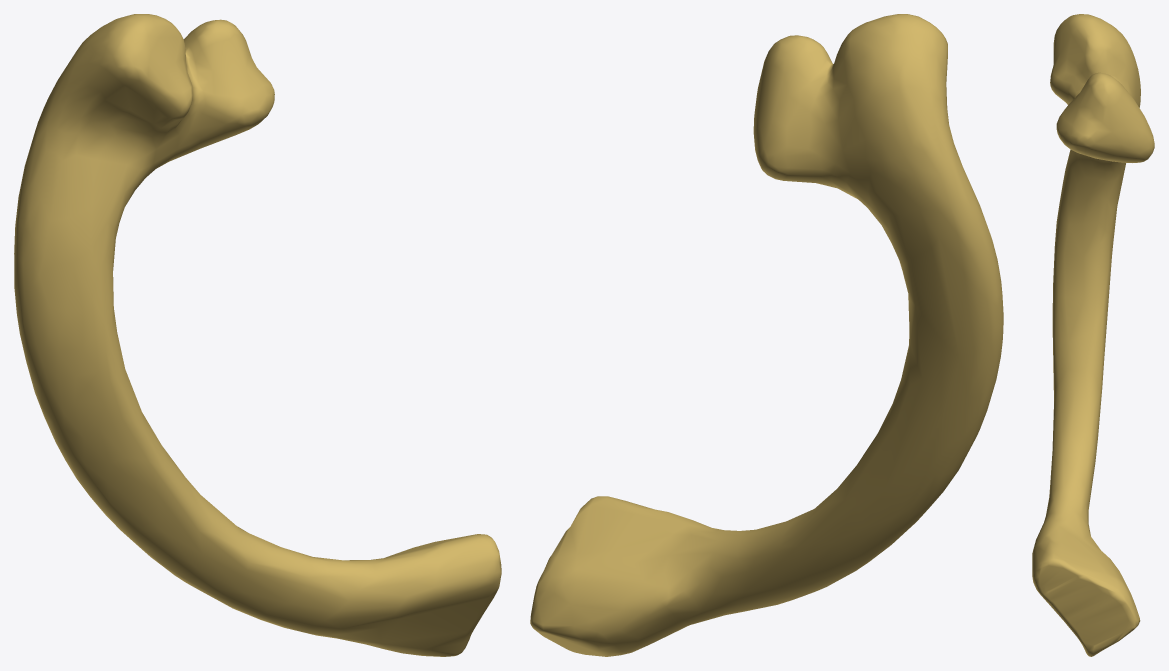
3 renders of one model, left to right at view 1: azimuth 30°, elevation 25°; view 2: azimuth 150°, elevation 25°; view 3: azimuth 270°, elevation 25°, orthographic. The views are drawn at different scales.
Visible parts, largest first — view 1: 右侧视束; view 2: 右侧视束; view 3: 右侧视束.
Boxes of the visible parts, <box> form: 右侧视束: <box>14,14,501,656</box>; 右侧视束: <box>530,14,1003,656</box>; 右侧视束: <box>1032,14,1154,656</box>.
Size of the model in its own units: 0.0355 by 0.0541 by 0.0115.
